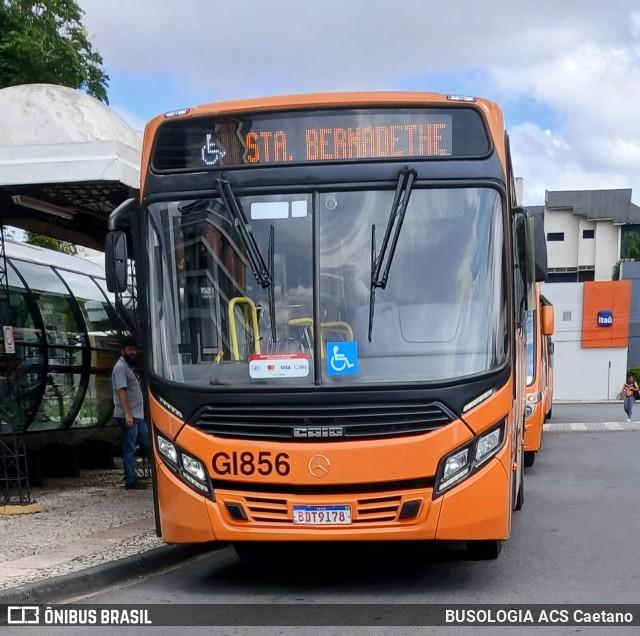STA BERNADETHE: (237, 118, 453, 167)
